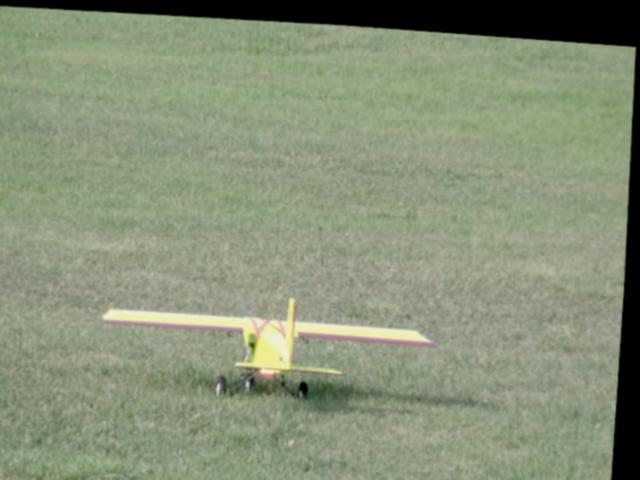plane: (103, 280, 445, 410)
